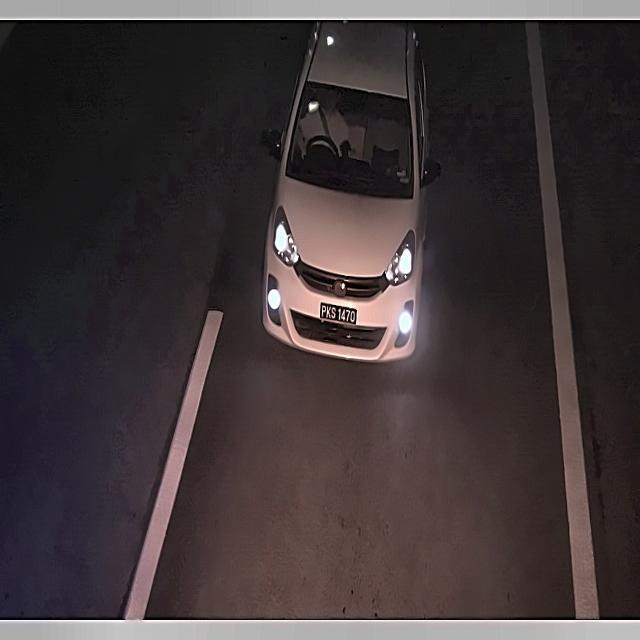car: (319, 299, 358, 330)
